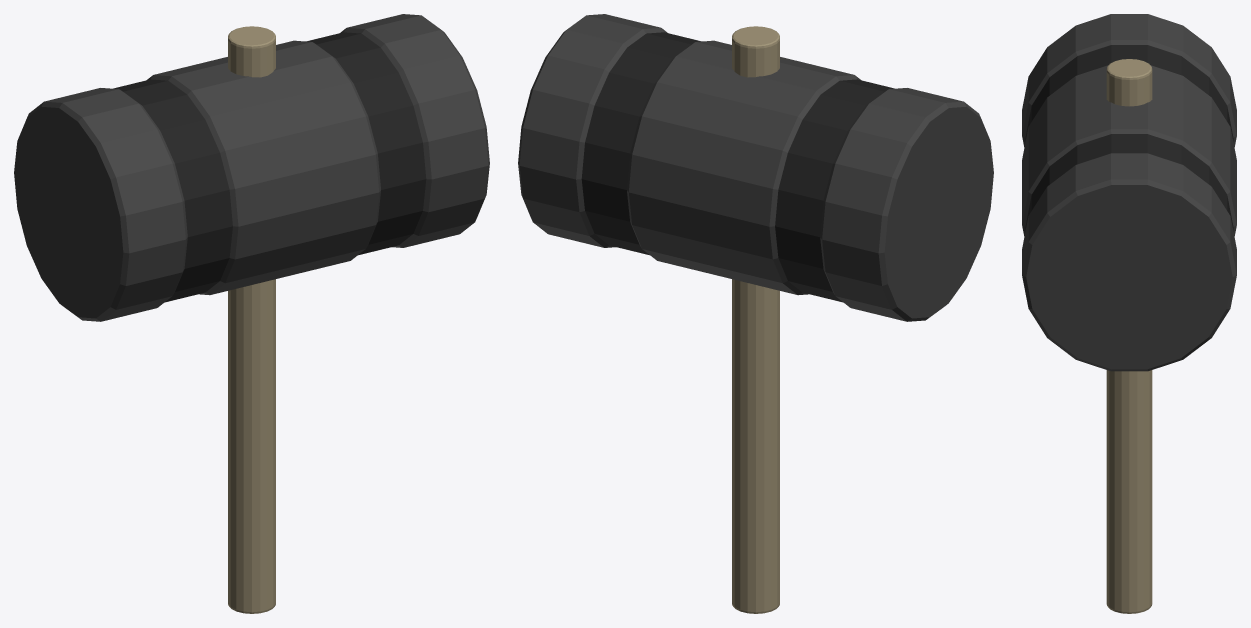
File: hammer.fbx
3 views of the same model, side by side, from view 1: azimuth 30°, elevation 25°; view 2: azimuth 150°, elevation 25°; view 3: azimuth 270°, elevation 25° (orthographic). The views are drawn at different scales.
Visible parts, largest first — view 1: hammer2, hammer3, hammer1; view 2: hammer2, hammer3, hammer1; view 3: hammer2, hammer1, hammer3.
Boxes of the visible parts, left/top/right/bottom form: hammer2: left=14, top=14, right=489, bottom=321; hammer3: left=113, top=32, right=426, bottom=302; hammer1: left=228, top=26, right=275, bottom=613; hammer2: left=518, top=14, right=993, bottom=321; hammer3: left=581, top=32, right=894, bottom=302; hammer1: left=732, top=26, right=779, bottom=613; hammer2: left=1022, top=14, right=1236, bottom=371; hammer1: left=1106, top=59, right=1152, bottom=613; hammer3: left=1025, top=45, right=1233, bottom=231.
Size of the model in its own units: 1.35 by 2 by 0.7239.
